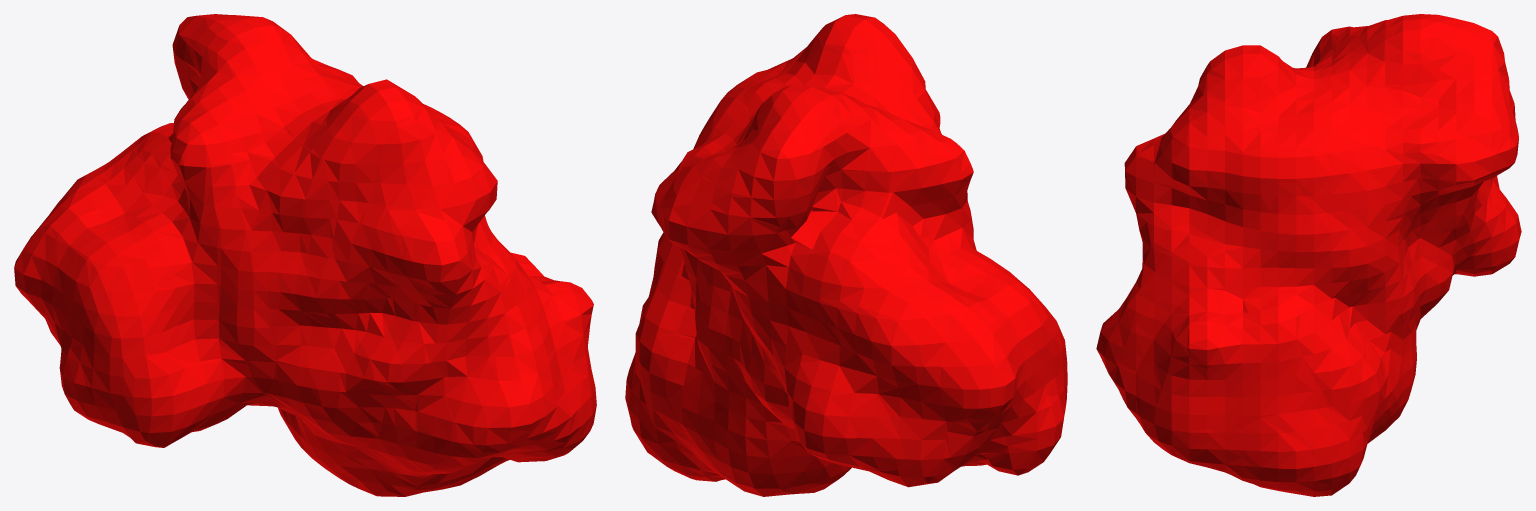
Rendered from yeiR_coarse.dae.
3 renders of one model, left to right at view 1: azimuth 30°, elevation 25°; view 2: azimuth 150°, elevation 25°; view 3: azimuth 270°, elevation 25°, orthographic. The views are drawn at different scales.
Visible parts, largest first — view 1: yeiR; view 2: yeiR; view 3: yeiR.
Boxes of the visible parts, bbox=[...] form: yeiR: bbox=[14, 14, 596, 496]; yeiR: bbox=[625, 14, 1067, 496]; yeiR: bbox=[1096, 14, 1521, 496].
Size of the model in its own units: 61.18 by 58.63 by 55.65.
